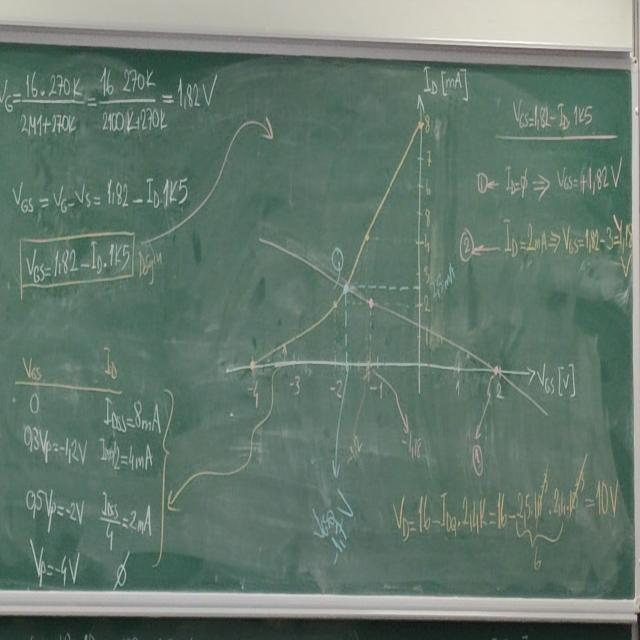image: (224, 64, 548, 432)
math: (14, 333, 170, 592), (0, 54, 223, 144), (389, 472, 625, 534), (5, 162, 197, 229), (498, 204, 640, 270), (21, 234, 162, 298), (500, 153, 627, 205), (504, 84, 597, 142)
